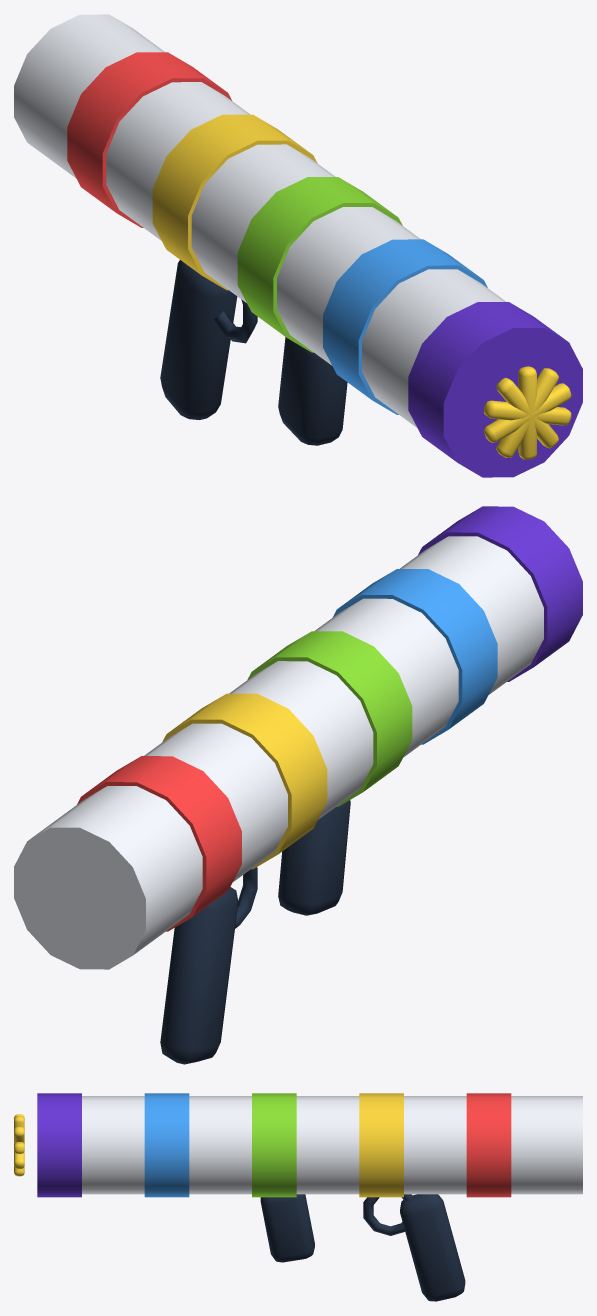
The model's file is FireworkLauncher.fbx.
The picture shows the model from 3 angles, top to bottom: view 1: azimuth 30°, elevation 25°; view 2: azimuth 150°, elevation 25°; view 3: azimuth 270°, elevation 25°; orthographic projection. The views are drawn at different scales.
Parts seen in each view (by area): view 1: FireworkLauncher; view 2: FireworkLauncher; view 3: FireworkLauncher.
Boxes of the visible parts, box(x1,y1,x2,y2) form: FireworkLauncher: box(14, 14, 582, 477); FireworkLauncher: box(14, 506, 582, 1064); FireworkLauncher: box(14, 1093, 582, 1301).
Size of the model in its own units: 0.1131 by 0.2487 by 0.636.
